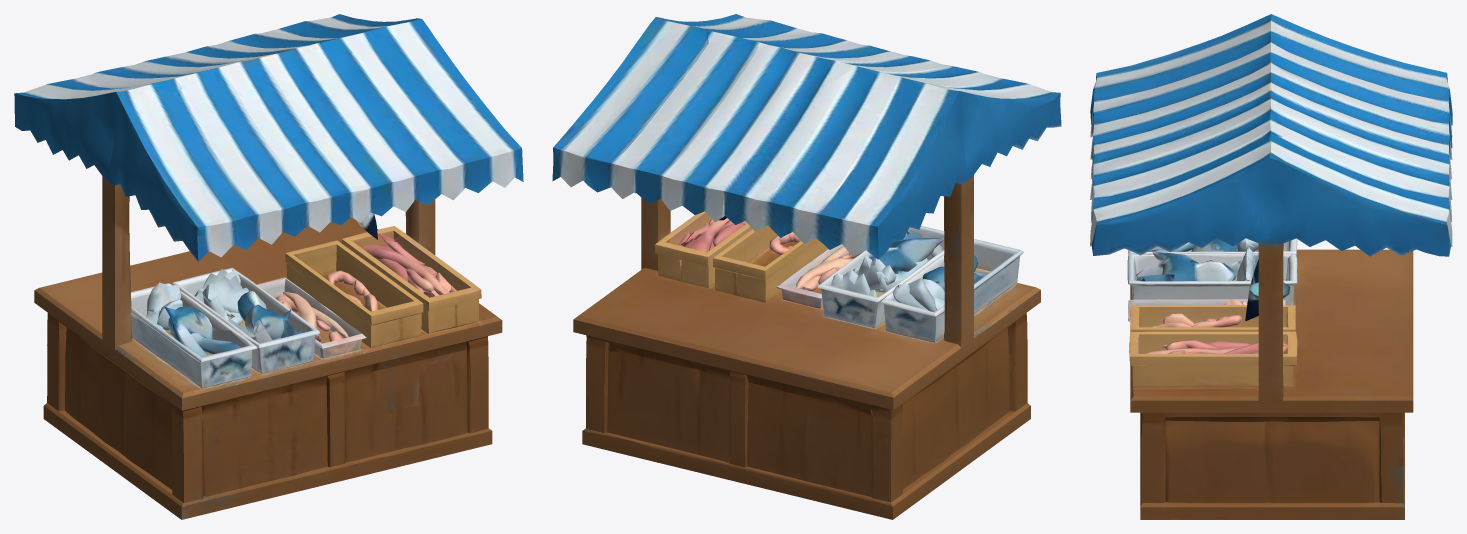
File: stall_fish.glb
3 renders of one model, left to right at view 1: azimuth 30°, elevation 25°; view 2: azimuth 150°, elevation 25°; view 3: azimuth 270°, elevation 25°, orthographic. The views are drawn at different scales.
Visible parts, largest first — view 1: model; view 2: model; view 3: model.
Boxes of the visible parts, x1=… form: model: x1=14, y1=14, x2=523, y2=519; model: x1=552, y1=14, x2=1061, y2=519; model: x1=1090, y1=14, x2=1452, y2=519.
Size of the model in its own units: 1.73 by 1.9 by 1.73.
1 material, 1 textured.
